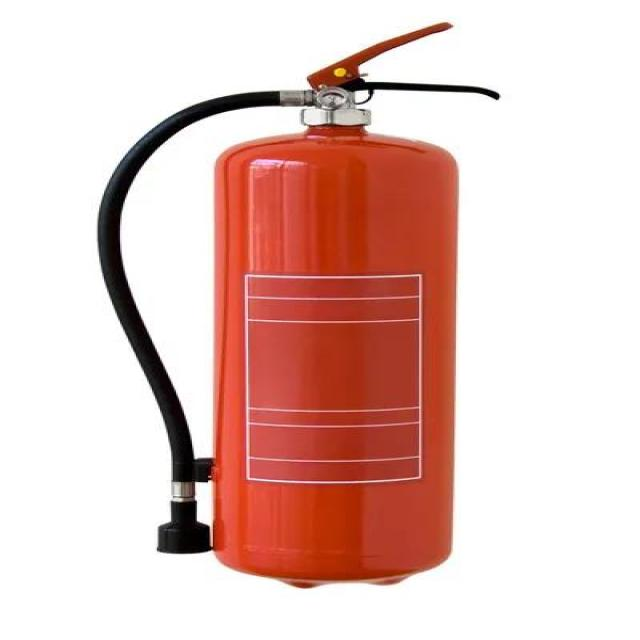fire_extinguisher: (91, 18, 509, 589)
